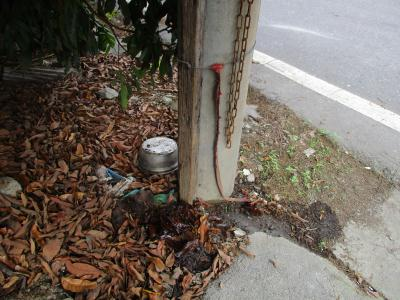bowl: (133, 133, 180, 177)
